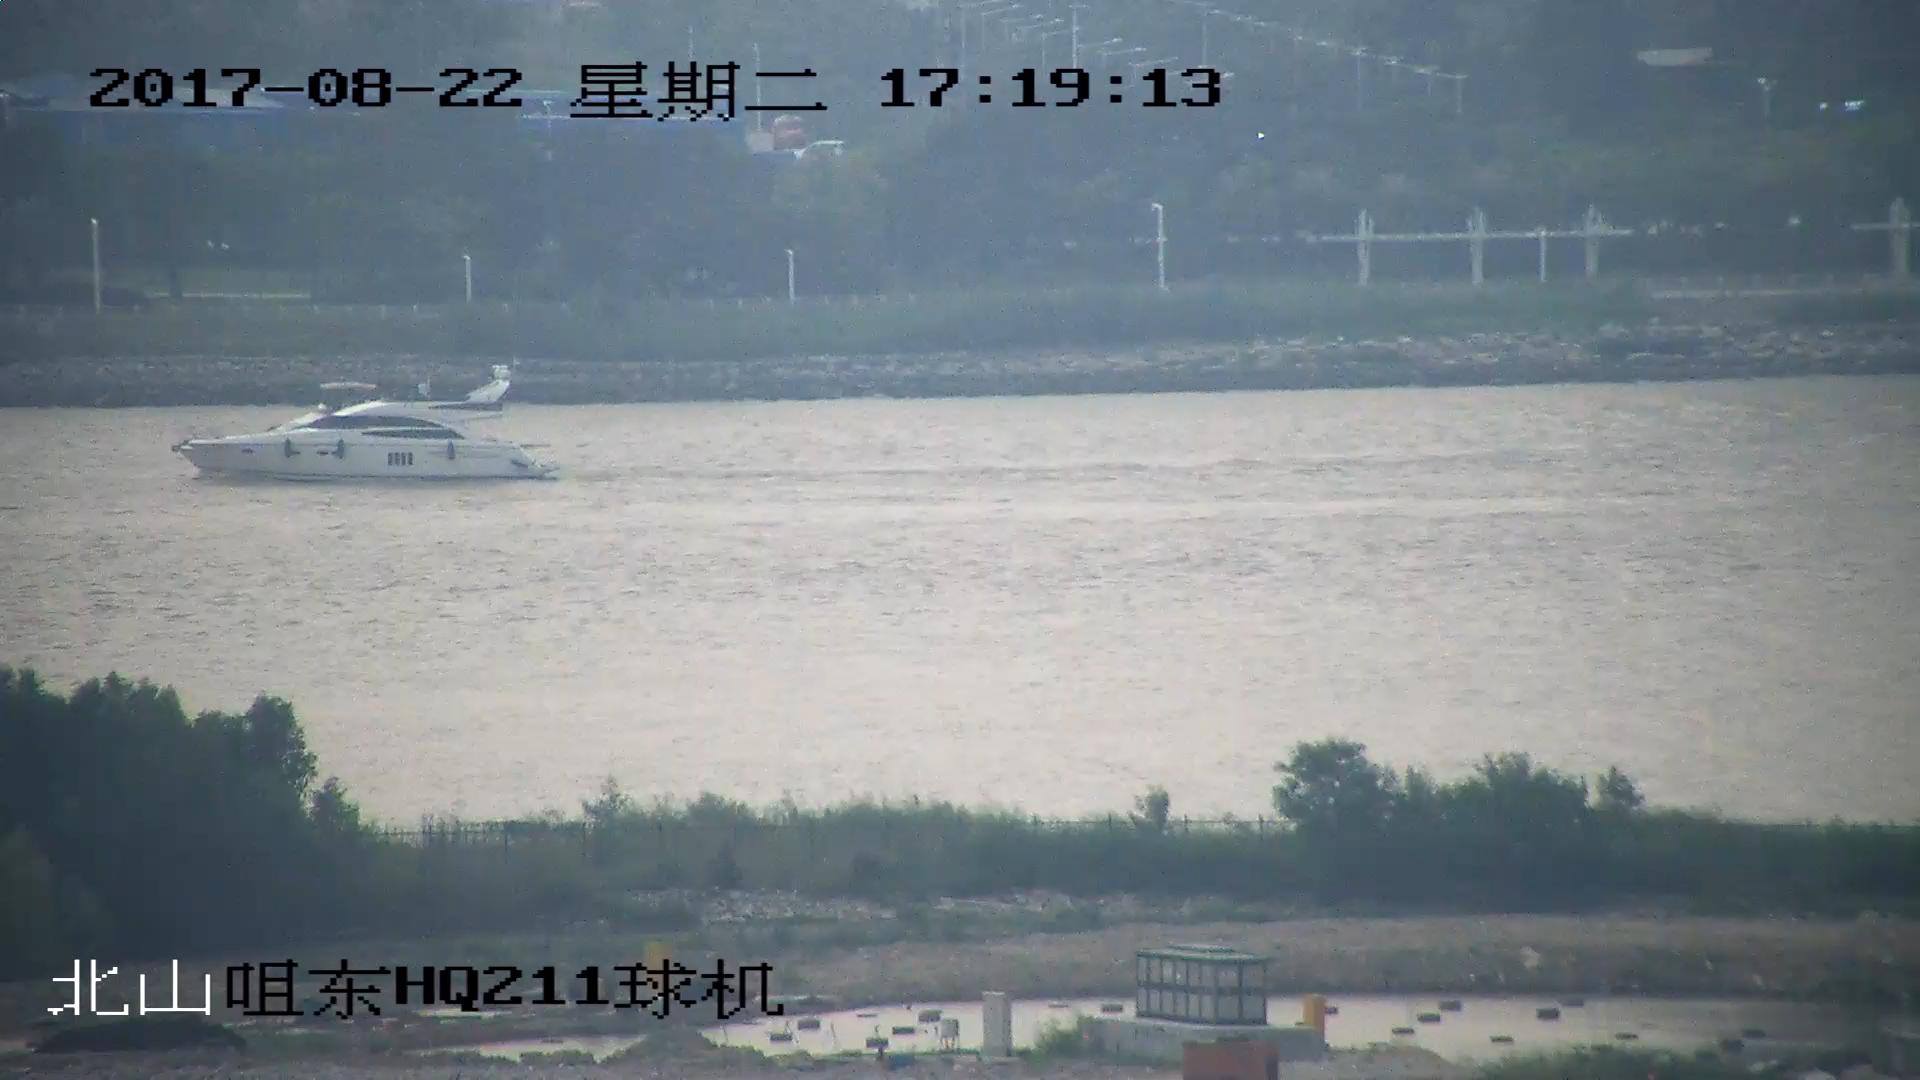passenger ship: (174, 367, 558, 489)
